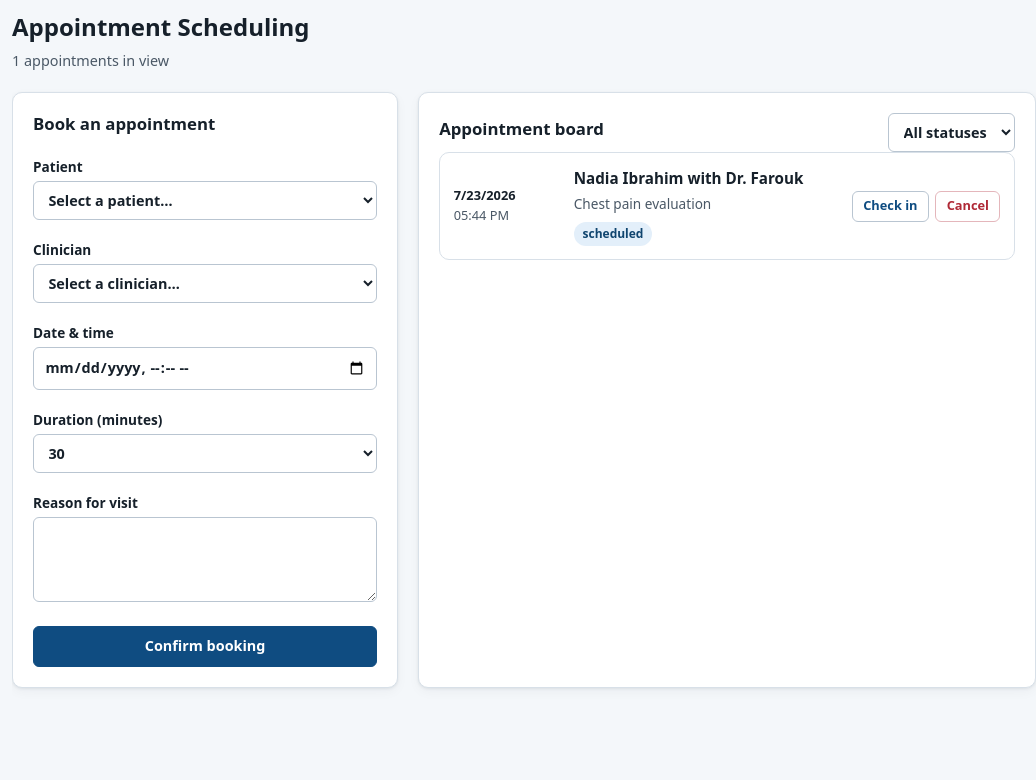
Test case: <AppointmentScheduling /> › surfaces a slot conflict returned by the booking service
Select "Nadia Ibrahim (MRN-TEST-0001)" in the dropdown labelled "Patient": [205, 200] box 33,181 -> 377,220
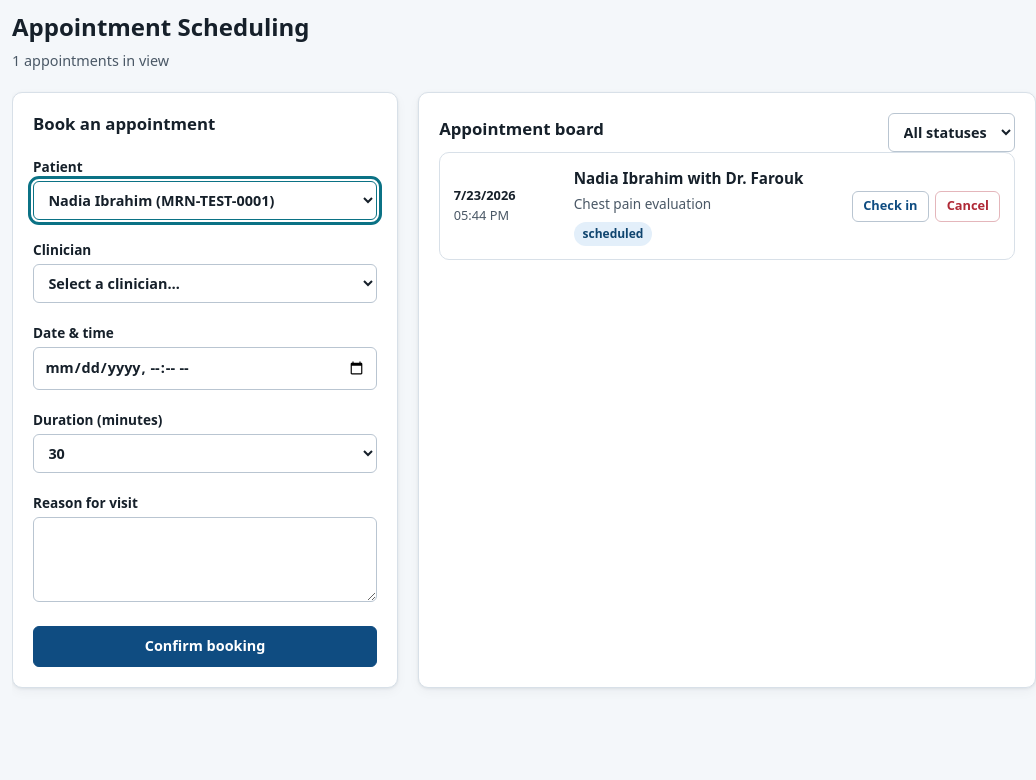
Select "Dr. Amina Farouk — Cardiology" in the dropdown labelled "Clinician": [205, 284] box 33,264 -> 377,303
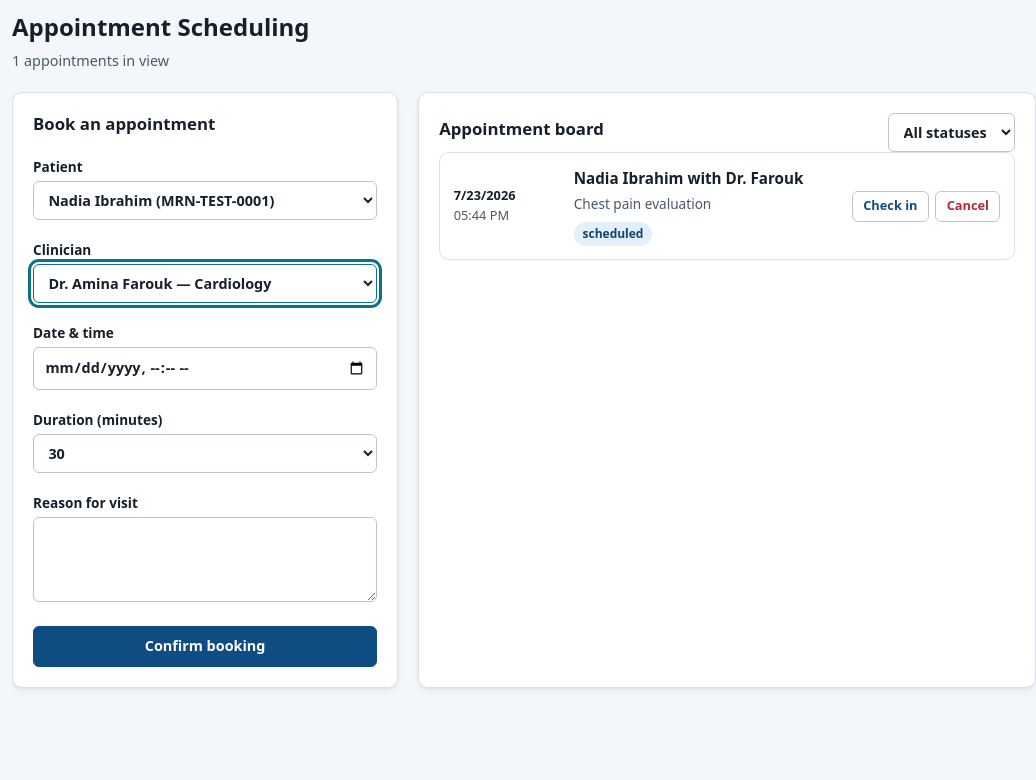
In the field labelled "Date & time": [205, 369] box 33,348 -> 377,390, type "2030-06-01T10:30"
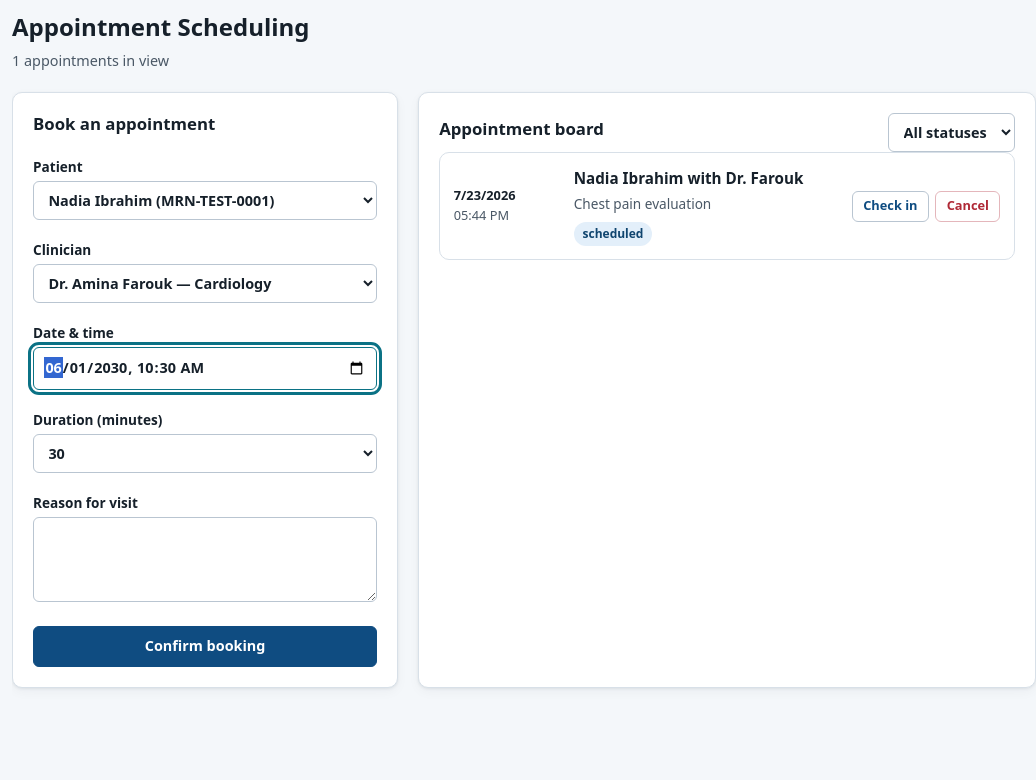
In the text box labelled "Reason for visit": [205, 560] box 33,517 -> 377,602, type "Clashing booking"
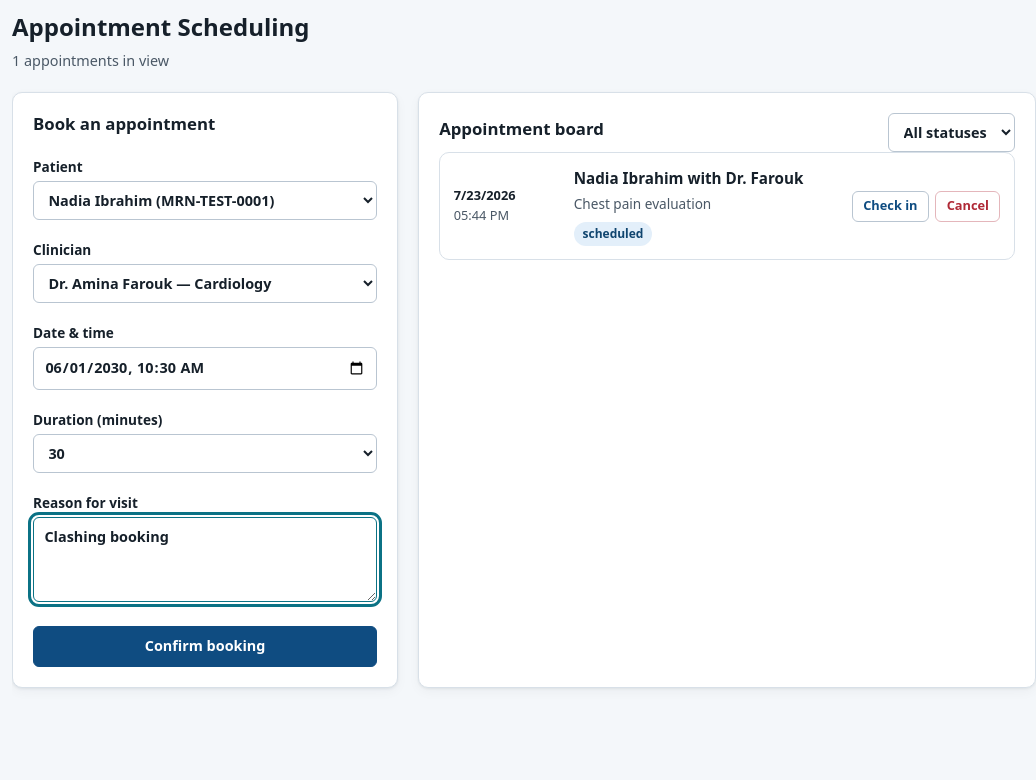
Click the button "Confirm booking": [205, 647] box 33,626 -> 377,667
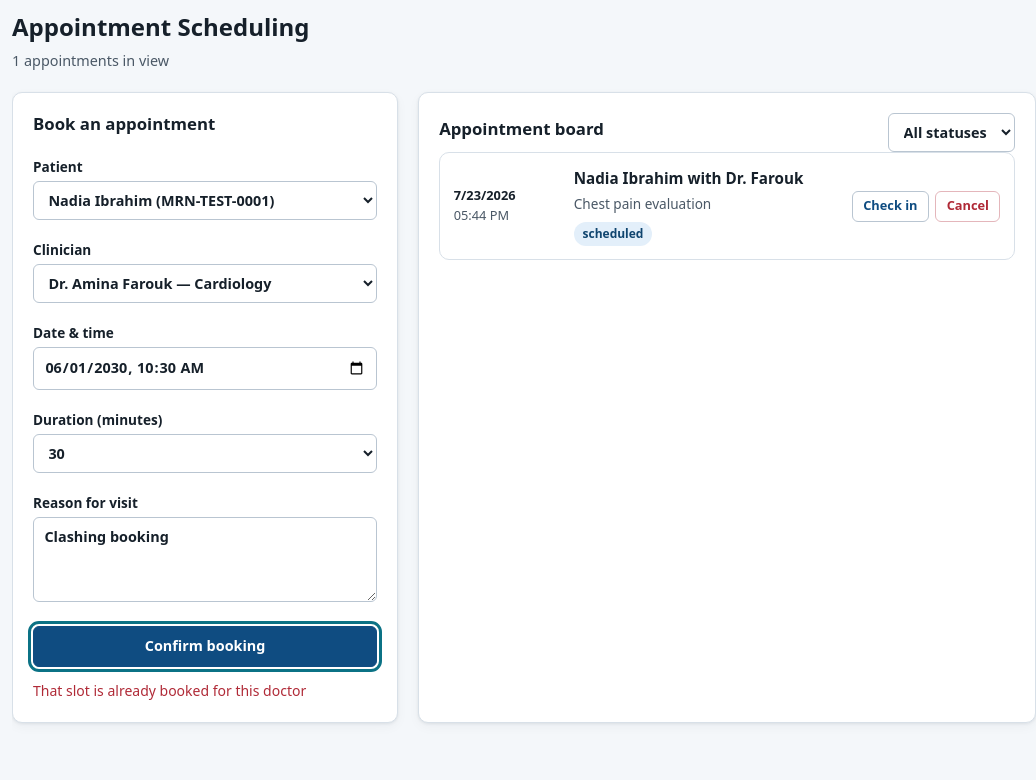
Now the message shows "already booked", box 33,681 -> 306,700
